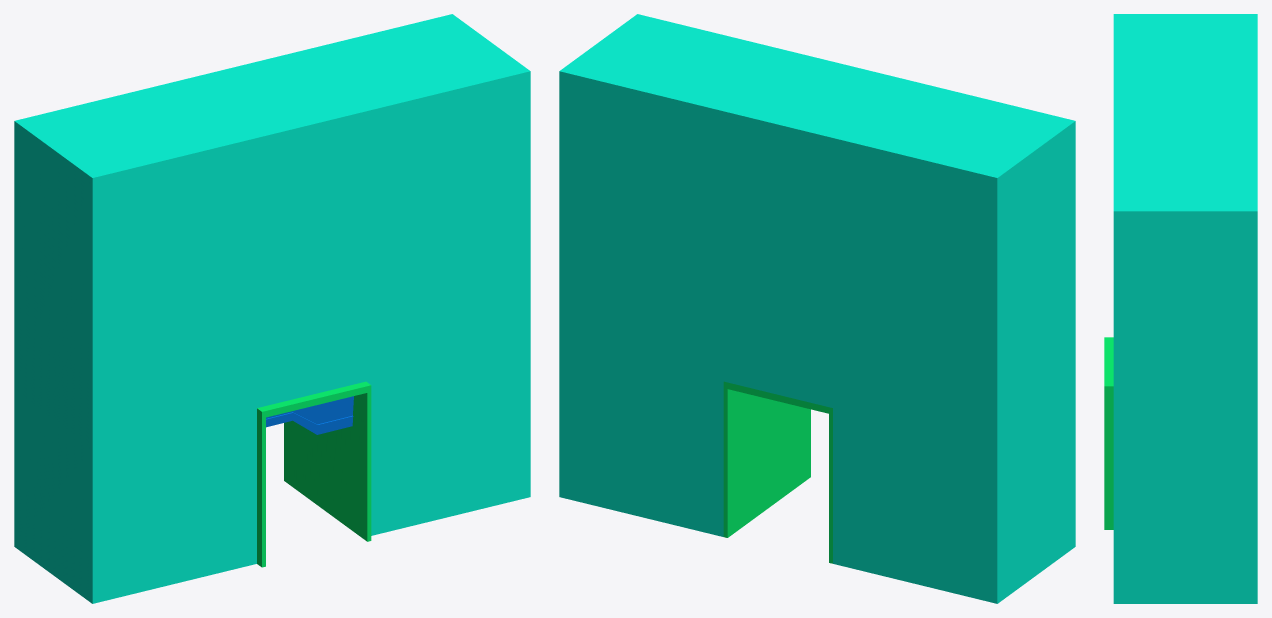
File: HallDoorVariation2.fbx
The picture shows the model from 3 angles, left to right: view 1: azimuth 30°, elevation 25°; view 2: azimuth 150°, elevation 25°; view 3: azimuth 270°, elevation 25°; orthographic projection. The views are drawn at different scales.
Visible parts, largest first — view 1: Wall, DoorFrame, DoorTopHalf; view 2: Wall, DoorFrame; view 3: Wall, DoorFrame.
Boxes of the visible parts, left/top/right/bottom form: Wall: left=14, top=14, right=530, bottom=603; DoorFrame: left=257, top=381, right=371, bottom=567; DoorTopHalf: left=266, top=396, right=353, bottom=434; Wall: left=559, top=14, right=1075, bottom=603; DoorFrame: left=723, top=381, right=832, bottom=563; Wall: left=1113, top=14, right=1257, bottom=603; DoorFrame: left=1104, top=337, right=1113, bottom=529.
Size of the model in its own units: 100 by 92.87 by 32.91.
